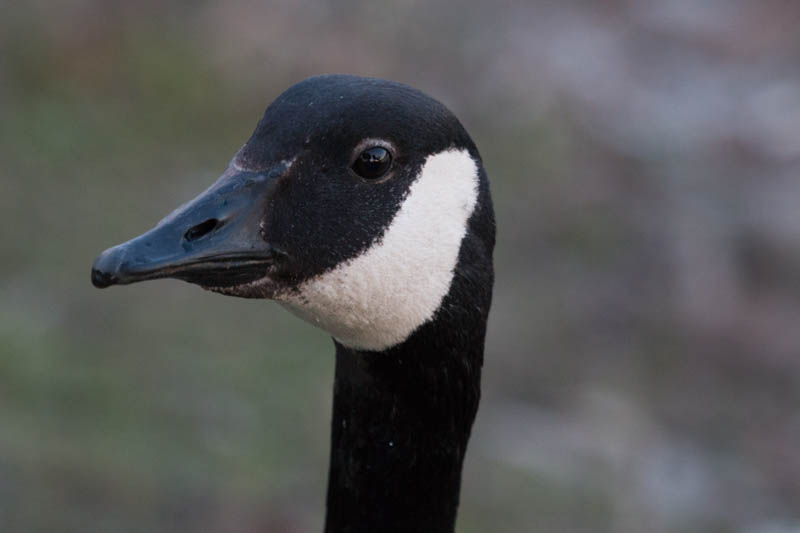goose-head: (89, 75, 496, 351)
